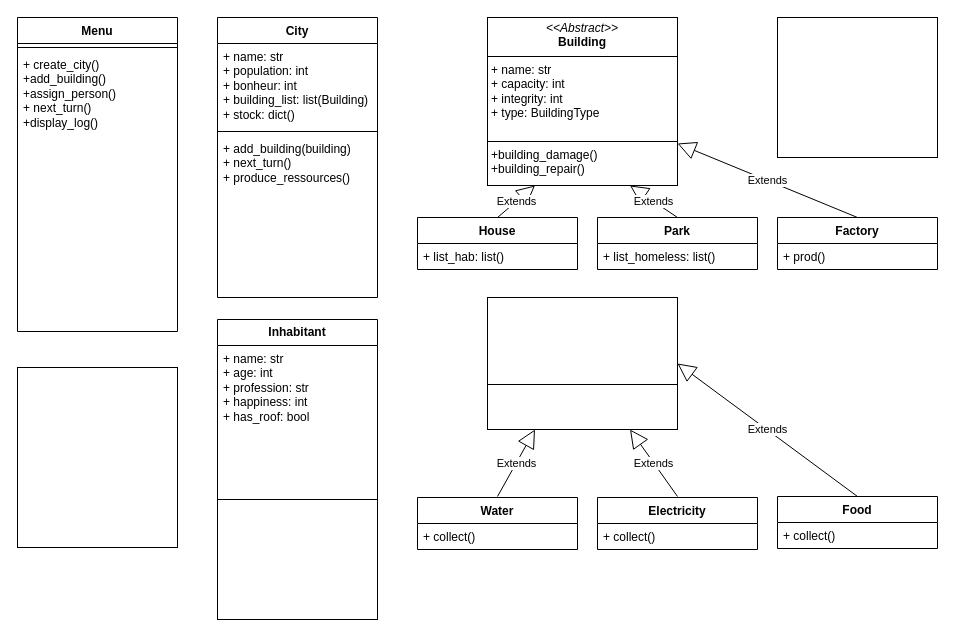
Some shapes in this 955 by 640 pixel diagram are drawn without their labels. The shapes that lost their labels are listed below. From the top down, each one's centre as x and y in pixels, then its label:
the point at 857,87: <<Enum>> BuildingType + housing + entertainment + production
the point at 582,363: <<Abstract>> Resource + collect()
the point at 97,457: <<Enum>> Event + fire + floods + strike + local_celebration
the point at 297,559: + gain_happiness() + lose_happiness()
